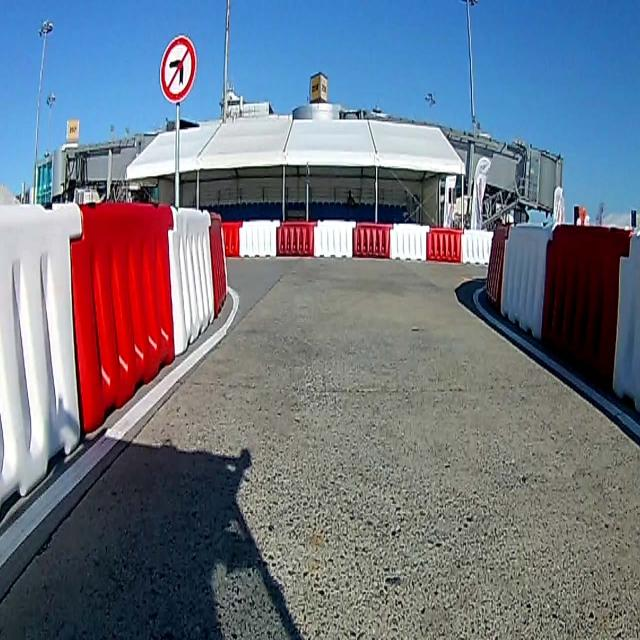soladonulmez: (160, 35, 198, 104)
